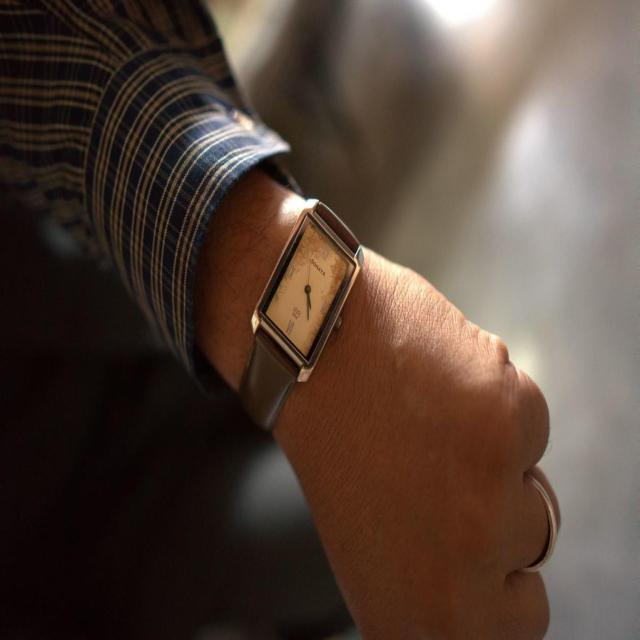Wrist watch: (237, 178, 366, 467)
